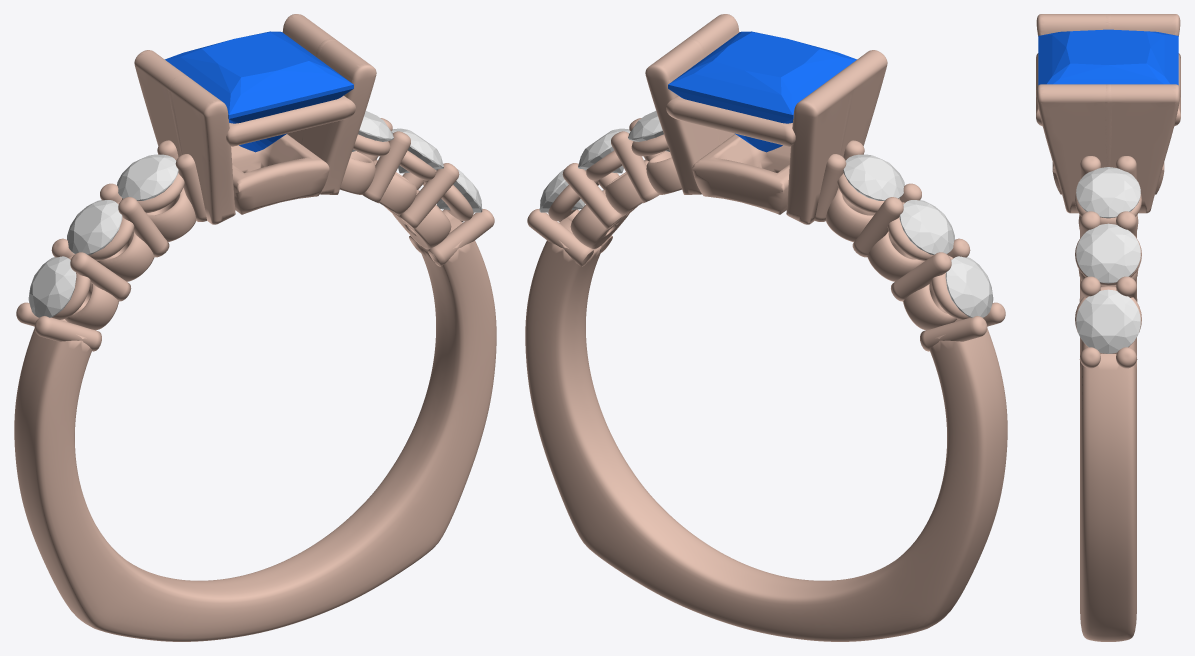
File: bluesapphire-princess-rosegold-halfmoonbezel-europeanshank-7stone.glb
3 renders of one model, left to right at view 1: azimuth 30°, elevation 25°; view 2: azimuth 150°, elevation 25°; view 3: azimuth 270°, elevation 25°, orthographic. The views are drawn at different scales.
Visible parts, largest first — view 1: metal, stone, side.001, side, side.002, side.004, side.003, side.005; view 2: metal, stone, side.001, side, side.002, side.004, side.003, side.005; view 3: metal, stone, side.005, side.004, side.003.
Boxes of the visible parts, x1,y1,x2,y2 form: metal: (14, 14, 496, 641); stone: (165, 31, 353, 152); side.001: (67, 200, 122, 254); side: (28, 256, 76, 317); side.002: (117, 154, 178, 200); side.004: (391, 128, 443, 173); side.003: (352, 111, 393, 151); side.005: (436, 169, 482, 212); metal: (525, 14, 1007, 641); stone: (668, 31, 856, 152); side.001: (899, 200, 954, 254); side: (945, 256, 993, 317); side.002: (843, 154, 904, 200); side.004: (578, 128, 630, 173); side.003: (628, 111, 669, 151); side.005: (539, 169, 586, 212); metal: (1036, 14, 1180, 641); stone: (1038, 29, 1178, 85); side.005: (1076, 289, 1140, 353); side.004: (1076, 223, 1140, 283); side.003: (1076, 167, 1140, 218).
Size of the model in its own units: 20.11 by 23.65 by 5.6.
